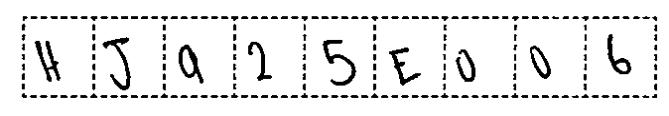0: (524, 42, 556, 84), (452, 44, 483, 86)
2: (241, 38, 282, 86)
5: (316, 32, 360, 93)
6: (604, 30, 638, 80)
9: (173, 40, 214, 87)
E: (384, 44, 426, 88)
H: (29, 34, 68, 88)
J: (100, 33, 138, 93)
